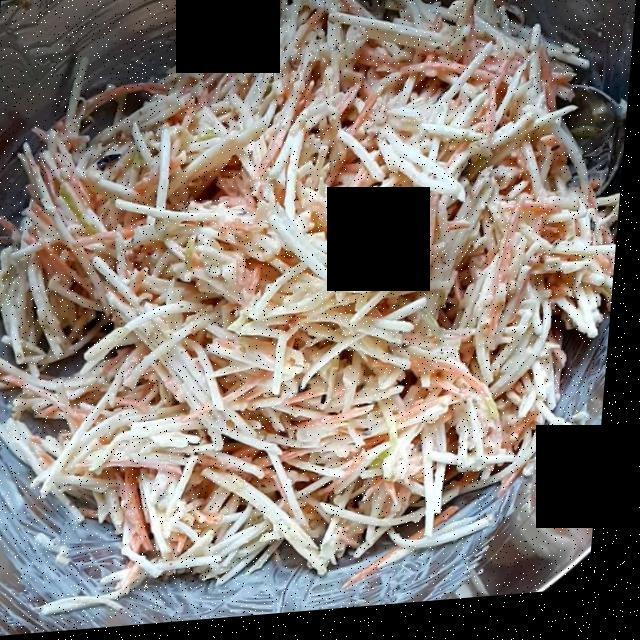carrot: (0, 0, 600, 577)
celeriac: (3, 18, 598, 571)
